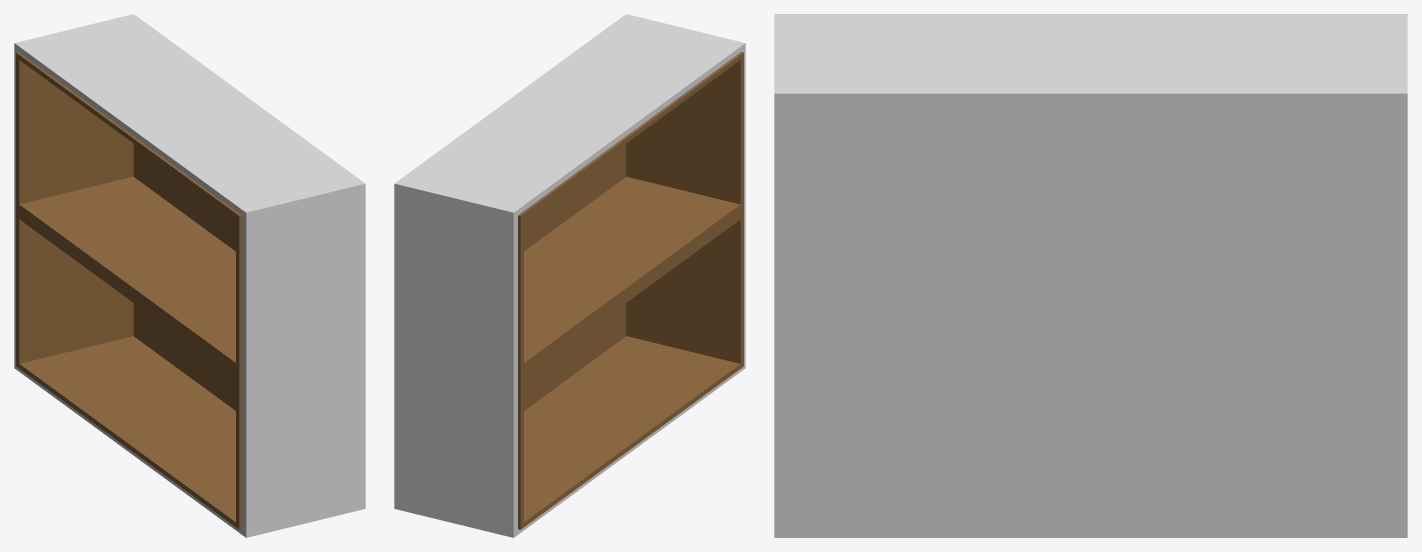
Rendered from shelves.fbx.
3 renders of one model, left to right at view 1: azimuth 30°, elevation 25°; view 2: azimuth 150°, elevation 25°; view 3: azimuth 270°, elevation 25°, orthographic. The views are drawn at different scales.
Visible parts, largest first — view 1: Cube; view 2: Cube; view 3: Cube.
Boxes of the visible parts, box(x1,y1,x2,y2) form: Cube: box(14, 14, 365, 537); Cube: box(394, 14, 745, 537); Cube: box(774, 14, 1407, 537).
Size of the model in its own units: 87.7 by 223 by 289.
